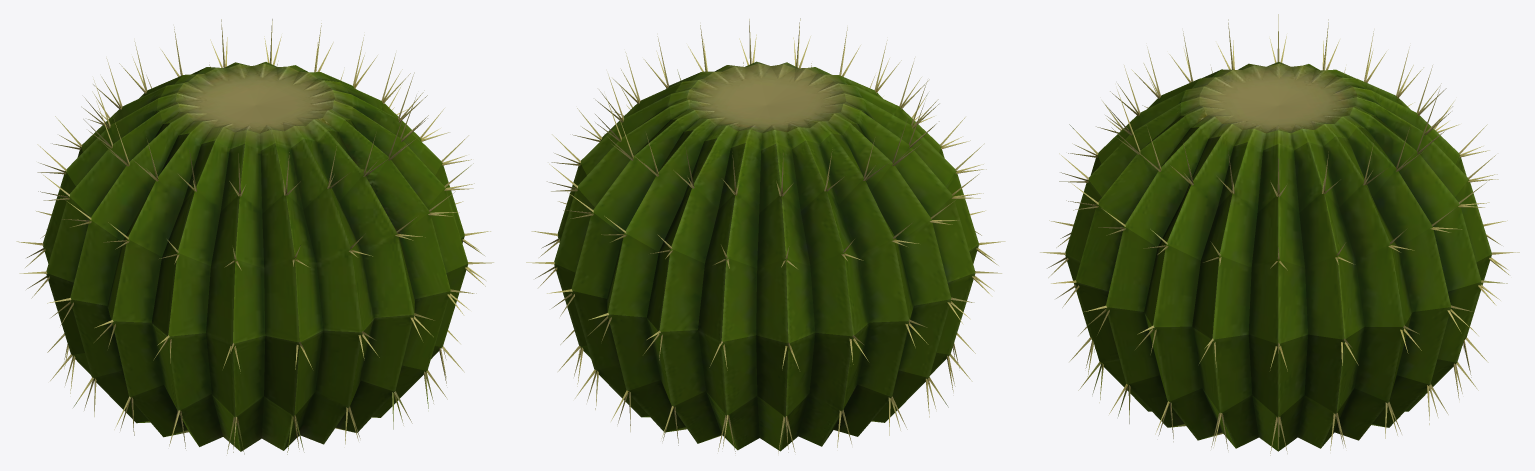
The model's file is cactus-barrel.glb.
3 views of the same model, side by side, from view 1: azimuth 30°, elevation 25°; view 2: azimuth 150°, elevation 25°; view 3: azimuth 270°, elevation 25° (orthographic).
Visible parts, largest first — view 1: BarrelCactus_mesh; view 2: BarrelCactus_mesh; view 3: BarrelCactus_mesh.
Part boxes in pixels (<box>): BarrelCactus_mesh: <box>16,19,493,454</box>; BarrelCactus_mesh: <box>526,18,1005,453</box>; BarrelCactus_mesh: <box>1040,14,1519,455</box>.
Size of the model in its own units: 6.92 by 5.02 by 6.92.
Materials: 1 (1 with a texture image).
